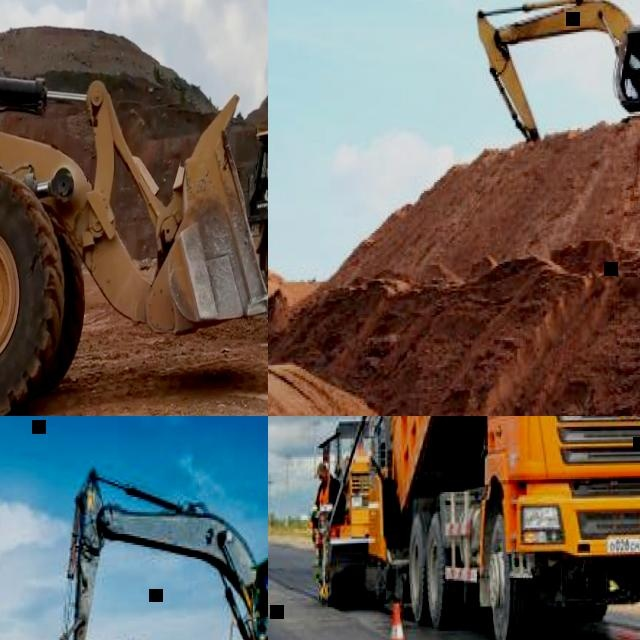Person: (313, 459, 349, 540)
Safety Cone: (375, 600, 420, 640)
Safety Vest: (316, 476, 333, 521)
machinery: (0, 0, 268, 416), (385, 416, 640, 640), (58, 462, 268, 640), (476, 0, 640, 144)
